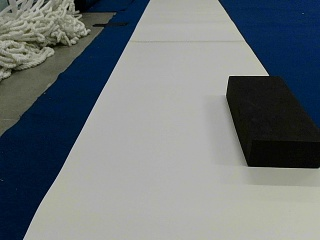block: (226, 75, 319, 167)
